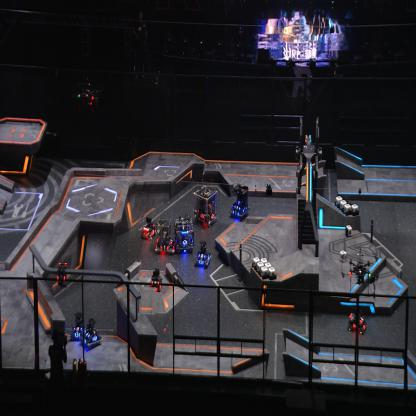car: (192, 185, 218, 226), (228, 181, 250, 220), (174, 214, 194, 254), (154, 217, 176, 252), (81, 316, 103, 349), (347, 305, 367, 335), (193, 240, 213, 266), (70, 311, 86, 341), (140, 216, 156, 239), (150, 268, 163, 293)
